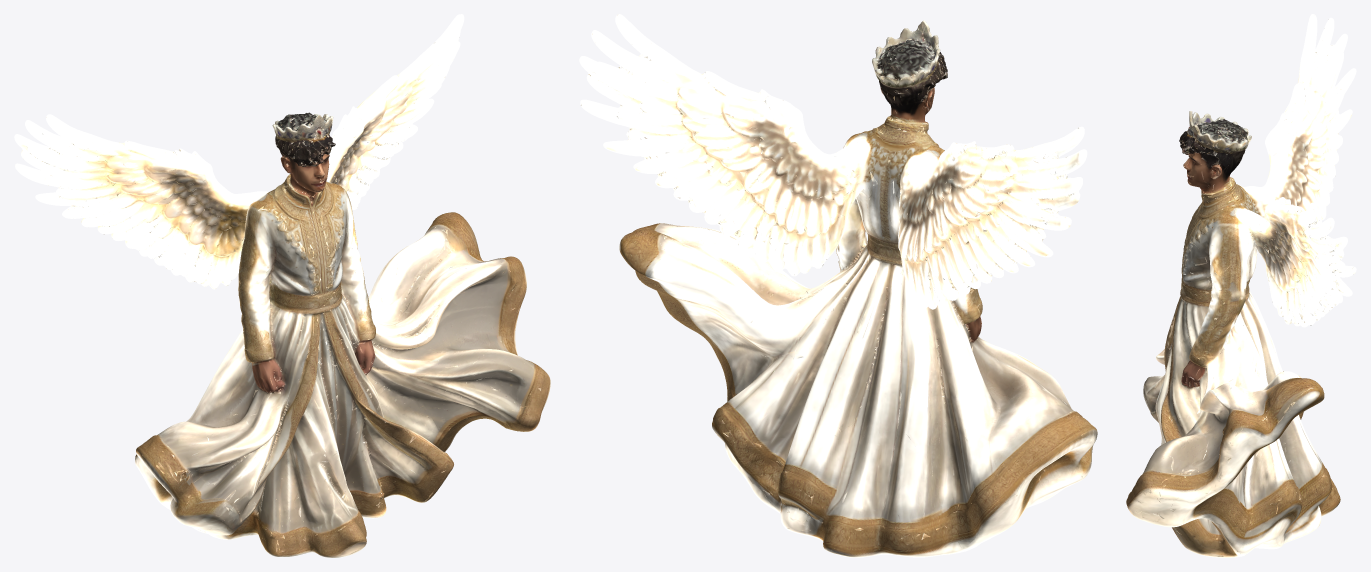
The model's file is Meshy_AI_Winged_Monarch_of_the_0507014236_texture.fbx.
3 renders of one model, left to right at view 1: azimuth 30°, elevation 25°; view 2: azimuth 150°, elevation 25°; view 3: azimuth 270°, elevation 25°, orthographic. The views are drawn at different scales.
Visible parts, largest first — view 1: Mesh_0; view 2: Mesh_0; view 3: Mesh_0.
Part boxes in pixels (bbox=[...]): Mesh_0: bbox=[14, 14, 550, 557]; Mesh_0: bbox=[579, 14, 1097, 557]; Mesh_0: bbox=[1126, 14, 1356, 557].
Size of the model in its own units: 191 by 173 by 89.08.
1 material, 1 textured.
